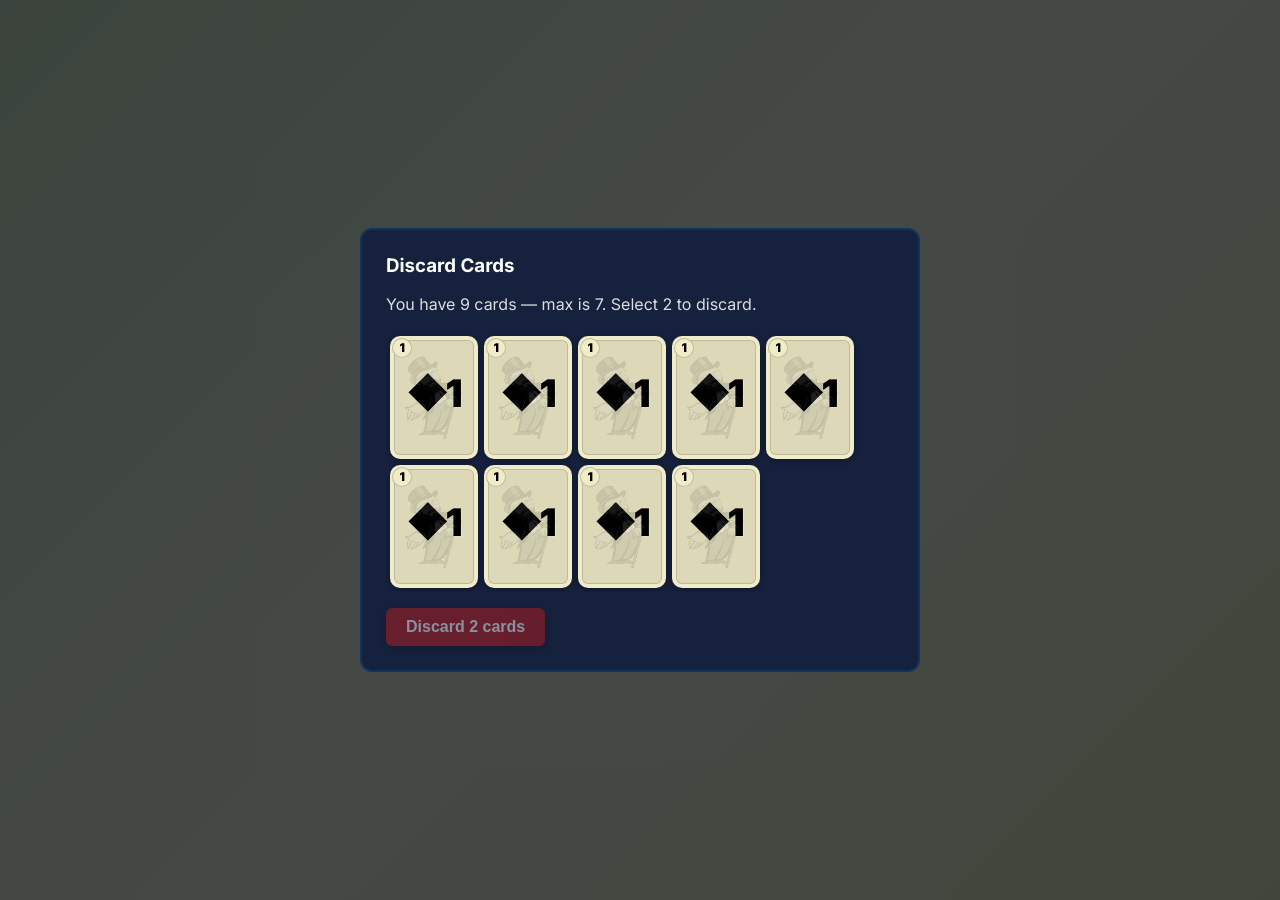
Test: DiscardModal › confirm button is disabled until enough cards selected
The width and height of the screenshot is (1280, 900).
Expected: the button "Discard 2 cards" is disabled, top-left (386, 608), bottom-right (545, 646)
# Select one card
Click the element with class "md-card" showing "◆1 1".
click(434, 397)  # box top-left (390, 336), bottom-right (478, 459)
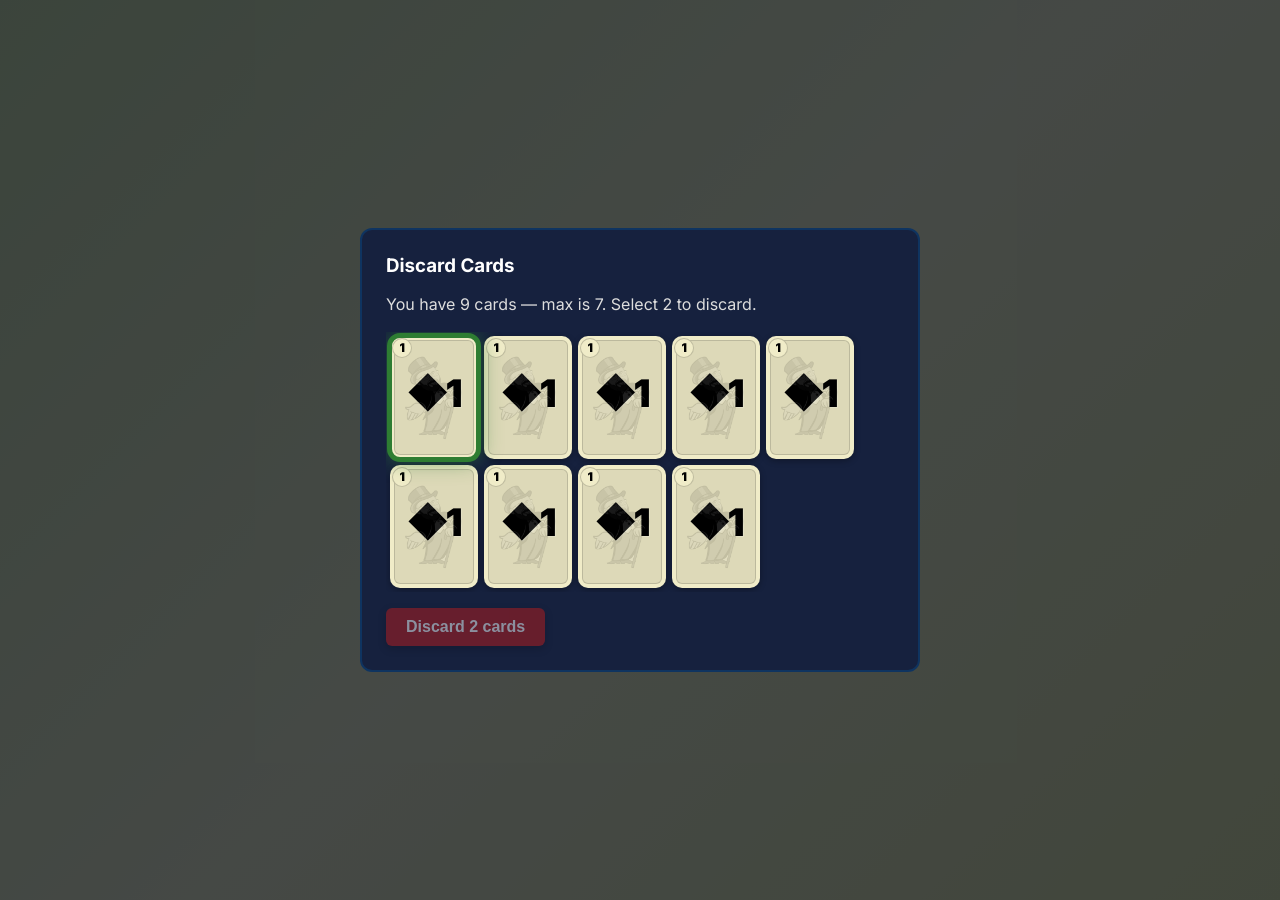
Expected: the button "Discard 2 cards" is disabled, top-left (386, 608), bottom-right (545, 646)
# Select second card
Click the element with class "md-card" showing "◆1 1".
click(528, 397)  # box top-left (484, 336), bottom-right (572, 459)
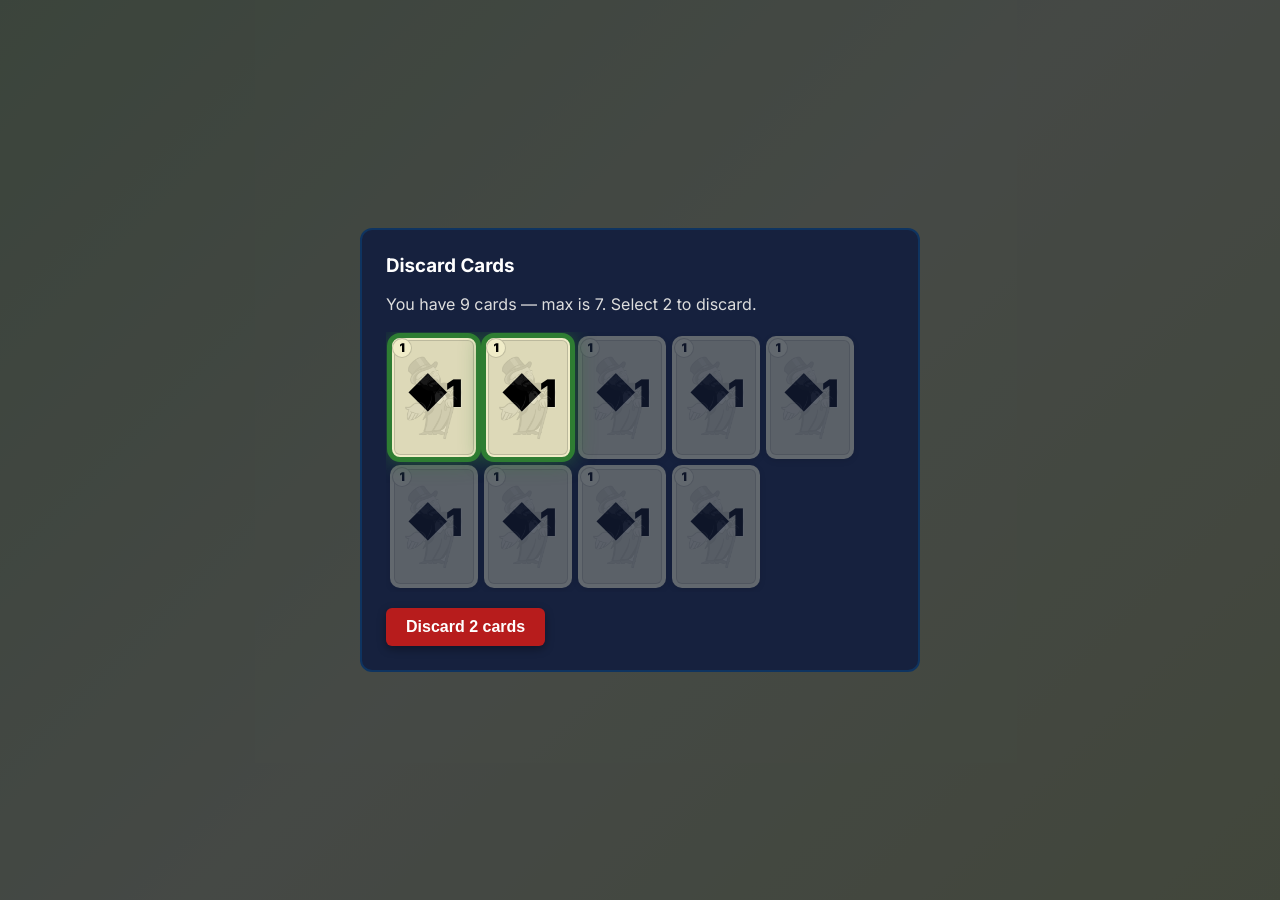
Expected: the button "Discard 2 cards" is enabled, top-left (386, 608), bottom-right (545, 646)
